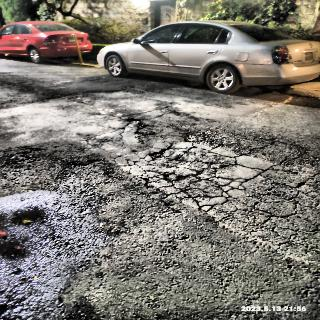alligator-crack: (107, 116, 320, 246)
